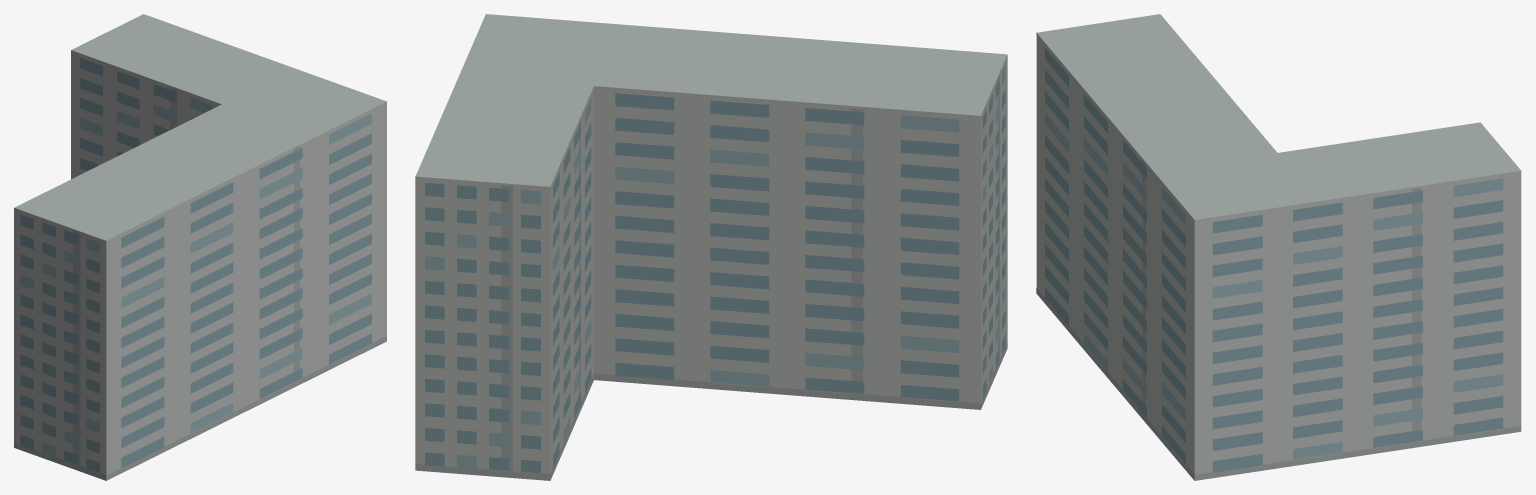
The model's file is residential-a208ae58-7a64-4395-80db-c1281593c8b1.glb.
3 renders of one model, left to right at view 1: azimuth 30°, elevation 25°; view 2: azimuth 150°, elevation 25°; view 3: azimuth 270°, elevation 25°, orthographic. The views are drawn at different scales.
Visible parts, largest first — view 1: residential-a208ae58-7a64-4395-80db-c1281593c8b1.tmp; view 2: residential-a208ae58-7a64-4395-80db-c1281593c8b1.tmp; view 3: residential-a208ae58-7a64-4395-80db-c1281593c8b1.tmp.
Part boxes in pixels (bbox=[...]): residential-a208ae58-7a64-4395-80db-c1281593c8b1.tmp: bbox=[14, 14, 386, 480]; residential-a208ae58-7a64-4395-80db-c1281593c8b1.tmp: bbox=[415, 14, 1007, 480]; residential-a208ae58-7a64-4395-80db-c1281593c8b1.tmp: bbox=[1036, 14, 1521, 480].
Size of the model in its own units: 55.89 by 33 by 55.59.
